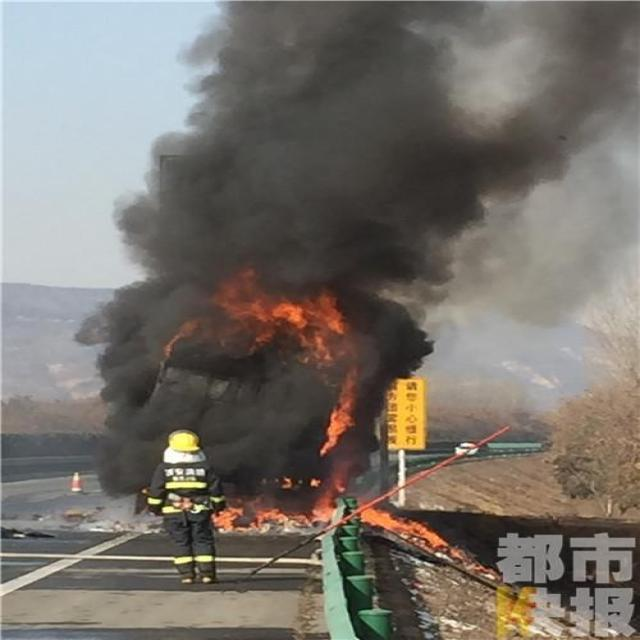Fire: (165, 267, 364, 457), (214, 478, 468, 562)
Smoke: (74, 1, 640, 521)
